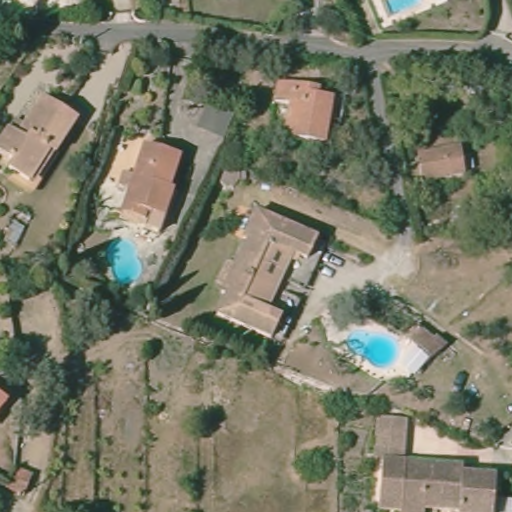pool: (341, 323, 404, 375), (101, 231, 149, 285), (373, 1, 434, 21)
